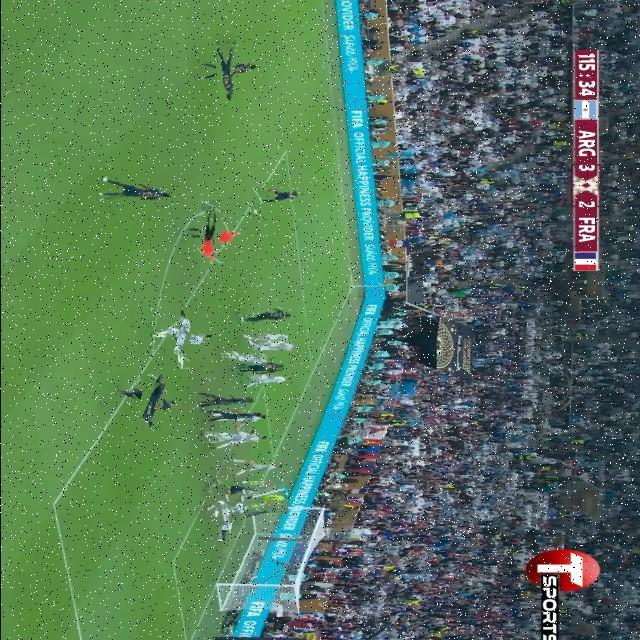ball: (251, 210, 260, 219)
goalkeeper: (241, 487, 288, 516)
player: (88, 176, 181, 206), (200, 45, 250, 95), (128, 381, 172, 424), (163, 317, 204, 358), (202, 479, 274, 501), (216, 455, 281, 479), (204, 492, 242, 530), (207, 347, 271, 365), (222, 361, 294, 376), (239, 370, 297, 388), (197, 427, 259, 443), (190, 394, 259, 408), (236, 308, 296, 324), (250, 188, 306, 204), (236, 334, 287, 350), (252, 340, 301, 351)
referee: (185, 210, 234, 258)
